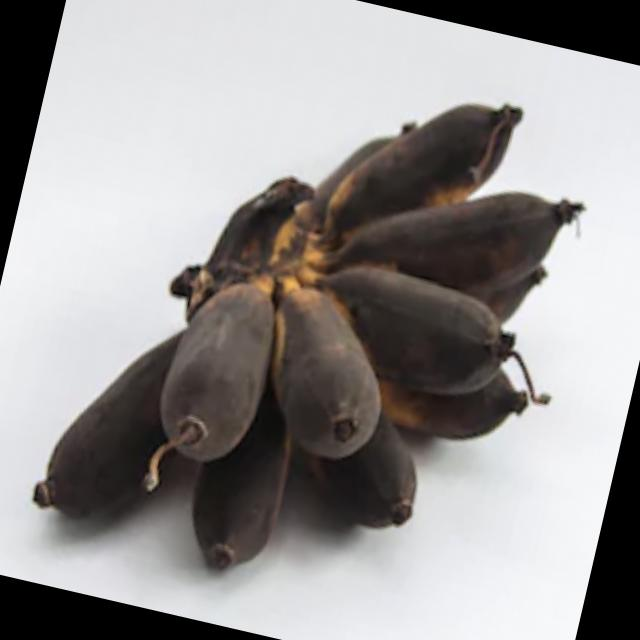rotten-banana: (347, 143, 609, 313), (12, 301, 181, 558), (310, 74, 532, 265), (139, 245, 303, 475), (250, 254, 408, 472), (320, 237, 546, 384), (154, 443, 306, 600), (315, 416, 451, 560), (403, 356, 551, 462)
